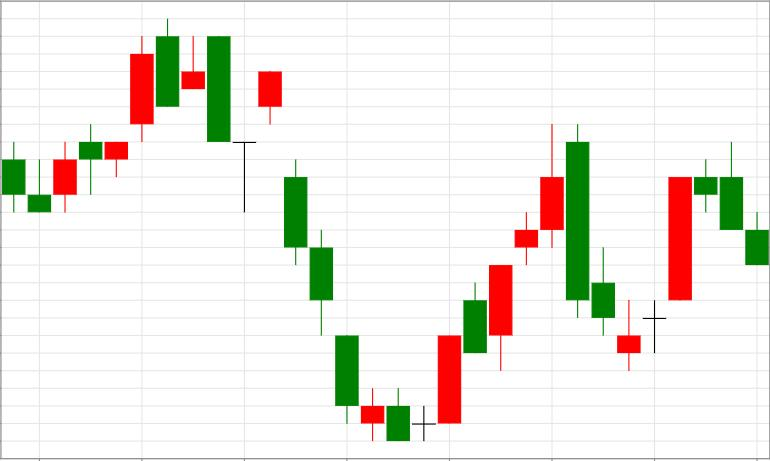bearish_engulfing_fall: (438, 124, 589, 424)
